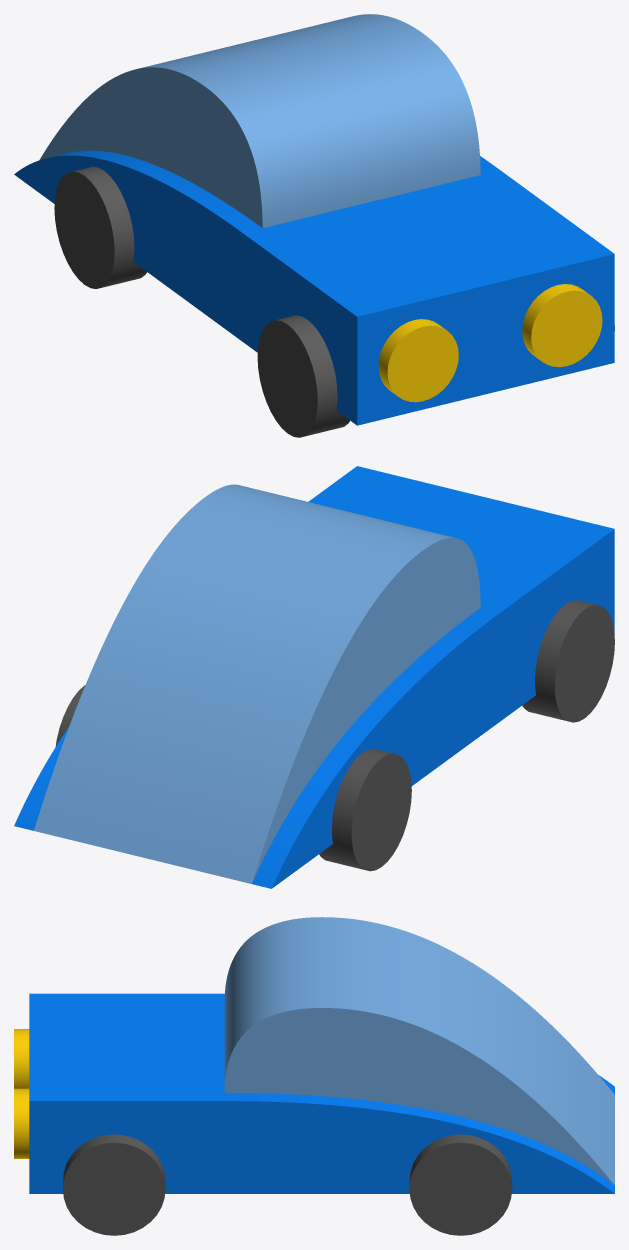
Rendered from Car.glb.
3 renders of one model, top to bottom at view 1: azimuth 30°, elevation 25°; view 2: azimuth 150°, elevation 25°; view 3: azimuth 270°, elevation 25°, orthographic. The views are drawn at different scales.
Visible parts, largest first — view 1: FinalCar; view 2: FinalCar; view 3: FinalCar.
Boxes of the visible parts, x1,y1,x2,y2 form: FinalCar: (14, 14, 614, 437); FinalCar: (14, 466, 614, 888); FinalCar: (14, 917, 614, 1235).
Size of the model in its own units: 3 by 2.39 by 6.16.
